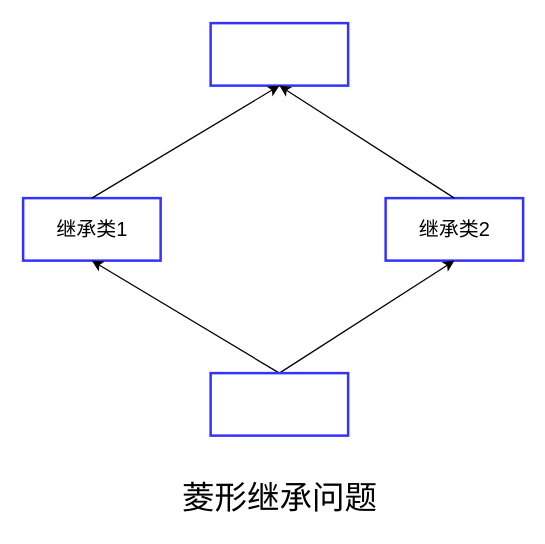
Some shapes in this 545 by 544 pixel diagram are drawn without their labels. Each missing label, with the centre of its shape:
"基类" belongs at (279,53).
"继承" belongs at (279,403).
